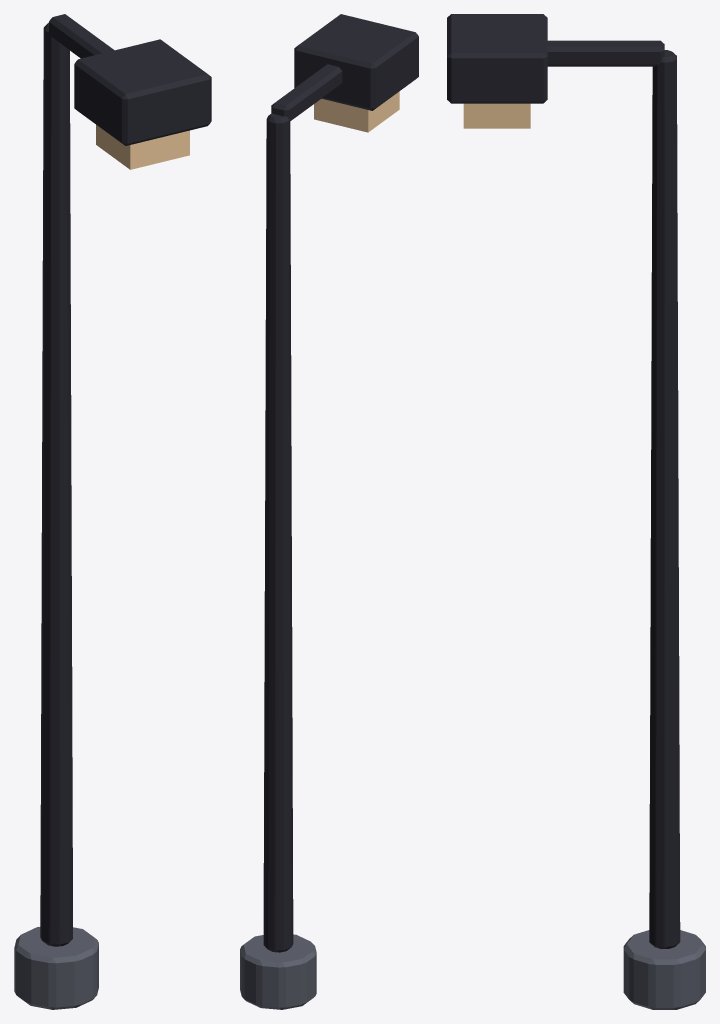
The model's file is CatCafe_Alley_StreetLamp.glb.
3 renders of one model, left to right at view 1: azimuth 30°, elevation 25°; view 2: azimuth 150°, elevation 25°; view 3: azimuth 270°, elevation 25°, orthographic. The views are drawn at different scales.
Parts seen in each view (by area): view 1: CatCafe_Alley_StreetLamp_Post, CatCafe_Alley_StreetLamp_Bulb; view 2: CatCafe_Alley_StreetLamp_Post, CatCafe_Alley_StreetLamp_Bulb; view 3: CatCafe_Alley_StreetLamp_Post, CatCafe_Alley_StreetLamp_Bulb.
Boxes of the visible parts, x1,y1,x2,y2 form: CatCafe_Alley_StreetLamp_Post: (14, 14, 211, 1009); CatCafe_Alley_StreetLamp_Bulb: (96, 125, 189, 169); CatCafe_Alley_StreetLamp_Post: (240, 14, 418, 1009); CatCafe_Alley_StreetLamp_Bulb: (314, 91, 399, 132); CatCafe_Alley_StreetLamp_Post: (447, 14, 705, 1009); CatCafe_Alley_StreetLamp_Bulb: (463, 103, 530, 128).
Bounding box in the file's own units: 0.9 × 9.5 × 2.32.
1 material, 1 textured.
